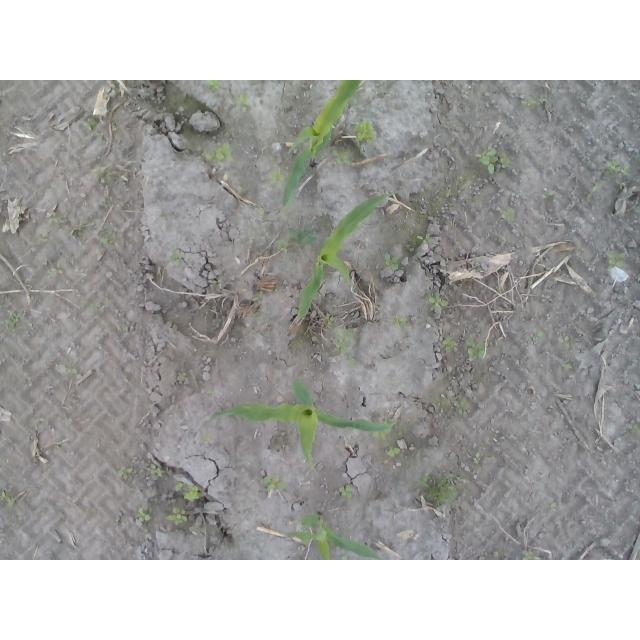Maize: (205, 379, 395, 465), (299, 194, 386, 318), (281, 80, 363, 208), (288, 512, 384, 561)
Weeds: (422, 471, 465, 505), (333, 323, 359, 369), (476, 145, 512, 176), (288, 223, 319, 249), (173, 481, 203, 502), (355, 119, 378, 146), (201, 143, 233, 162), (466, 338, 489, 361), (427, 290, 449, 314), (405, 234, 432, 253), (607, 160, 633, 177), (165, 506, 187, 526), (332, 146, 353, 166), (607, 249, 625, 272), (264, 475, 288, 490), (232, 95, 249, 114), (527, 328, 545, 345), (97, 168, 115, 185), (442, 335, 458, 353), (384, 254, 401, 270), (47, 264, 64, 280), (526, 94, 548, 106), (0, 488, 16, 504), (116, 466, 133, 481), (148, 465, 165, 479), (138, 506, 152, 522), (80, 118, 97, 131), (270, 172, 286, 185), (466, 452, 482, 465), (521, 550, 541, 560), (97, 235, 115, 246), (560, 358, 576, 370), (202, 430, 214, 446), (544, 191, 561, 202), (207, 80, 221, 93), (339, 485, 353, 498), (47, 212, 62, 224), (455, 399, 465, 417), (387, 446, 402, 458), (503, 208, 514, 224), (169, 252, 183, 264), (394, 319, 410, 329), (560, 334, 572, 347), (88, 304, 104, 313), (5, 319, 18, 330), (279, 240, 290, 253), (109, 82, 119, 96), (630, 420, 640, 433), (591, 182, 602, 193), (177, 371, 188, 382), (374, 430, 387, 438), (33, 416, 43, 424), (67, 369, 78, 376), (254, 292, 262, 301), (616, 184, 624, 192), (120, 325, 129, 332), (456, 177, 464, 184), (212, 284, 220, 289)
